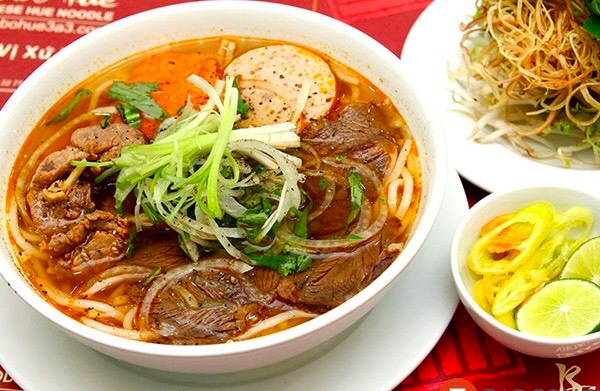beef: (259, 196, 398, 293), (133, 247, 257, 344), (299, 99, 387, 223), (27, 166, 123, 267), (60, 122, 138, 175)
chamoc: (223, 40, 335, 133)
onion: (142, 111, 267, 214)
